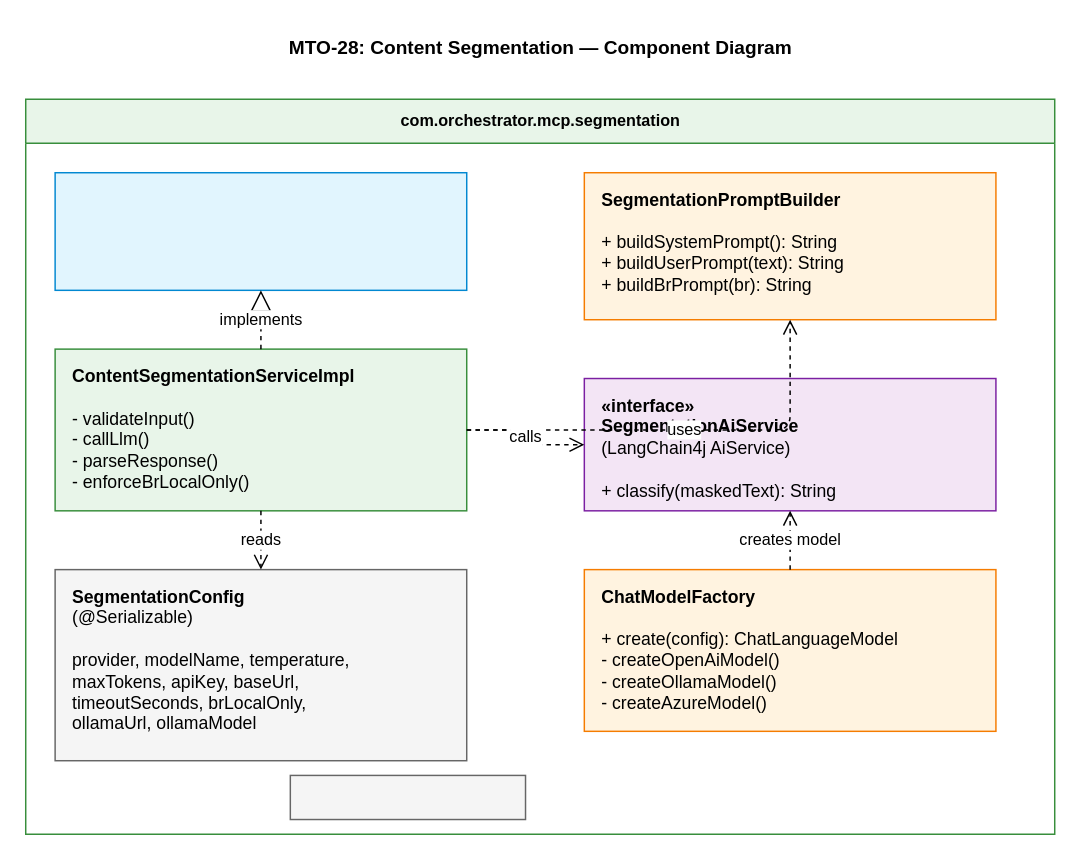
Image size: 1080x860. Some labels were removed from this diagram. The shapes that lost their labels are listed below. From the top down, each one's centre as x and y in pixels, then its label:
At (260,230): "«interface» ContentSegmentationService + segment(maskedText): SegmentationResult".
At (407,797): "SegmentationModule (Koin DI)".
